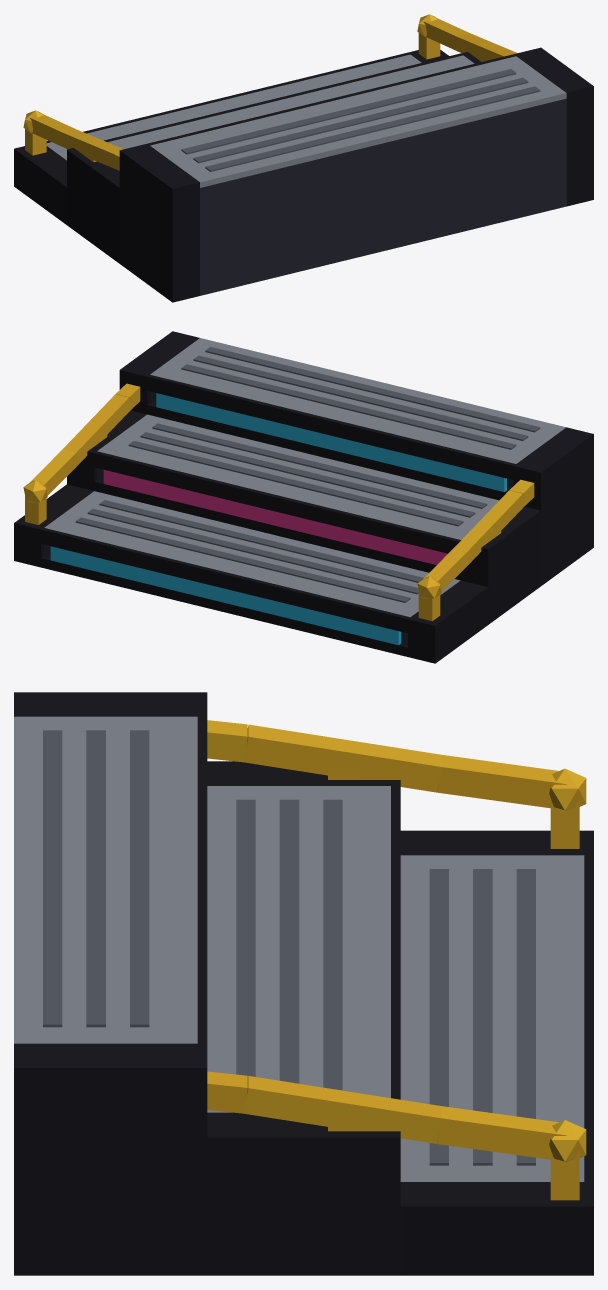
The model's file is Decor_DJStage_Stairs.fbx.
3 renders of one model, top to bottom at view 1: azimuth 30°, elevation 25°; view 2: azimuth 150°, elevation 25°; view 3: azimuth 270°, elevation 25°, orthographic. The views are drawn at different scales.
Visible parts, largest first — view 1: Stairs_Body; view 2: Stairs_Body; view 3: Stairs_Body.
Boxes of the visible parts, x1,y1,x2,y2 form: Stairs_Body: (14,14,593,302); Stairs_Body: (14,331,593,663); Stairs_Body: (14,692,593,1275).
Bounding box in the file's own units: 9.2 × 2.4 × 6.
